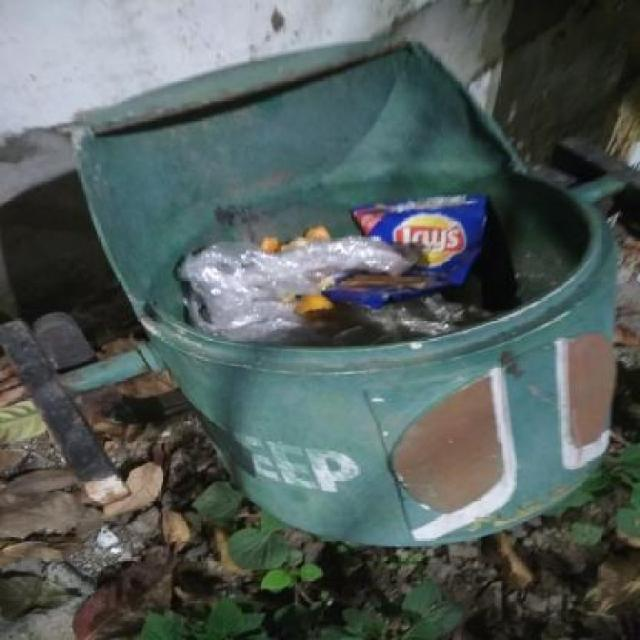garbage: (0, 307, 238, 638), (182, 196, 572, 350)
